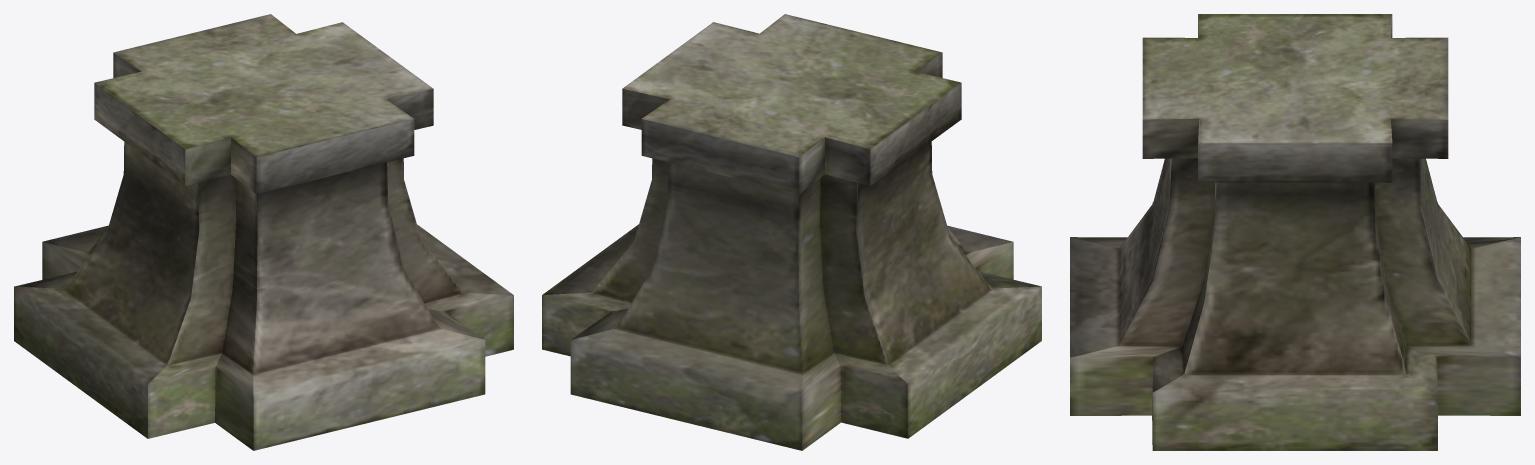
Rendered from a_stone002.FBX.
3 views of the same model, side by side, from view 1: azimuth 30°, elevation 25°; view 2: azimuth 150°, elevation 25°; view 3: azimuth 270°, elevation 25° (orthographic). The views are drawn at different scales.
Parts seen in each view (by area): view 1: a_stone002; view 2: a_stone002; view 3: a_stone002.
Boxes of the visible parts, box(x1,y1,x2,y2) form: a_stone002: box(14, 14, 513, 450); a_stone002: box(542, 14, 1041, 450); a_stone002: box(1070, 14, 1520, 450).
Bounding box in the file's own units: 264 × 179 × 264.
